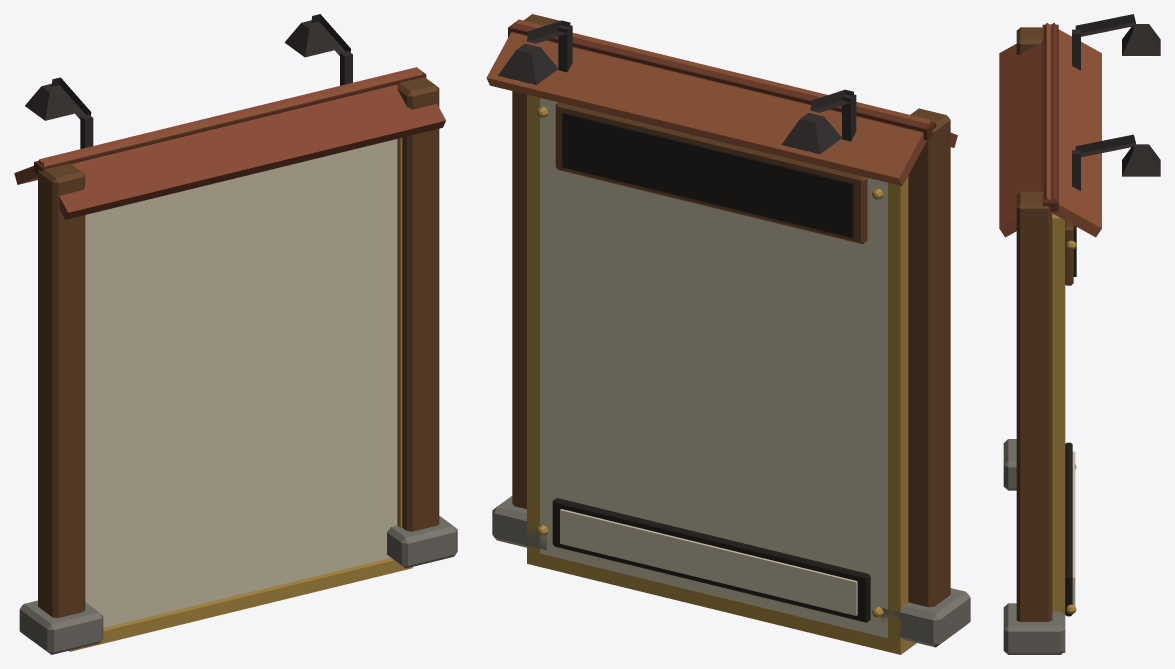
Rendered from StoreBoard.glb.
3 renders of one model, left to right at view 1: azimuth 30°, elevation 25°; view 2: azimuth 150°, elevation 25°; view 3: azimuth 270°, elevation 25°, orthographic. The views are drawn at different scales.
Parts seen in each view (by area): view 1: Board, Body; view 2: Board, Body, Header, Soon; view 3: Body, Soon.
Part boxes in pixels (x1,y1,x2,y2): Board: (85,139,397,627); Body: (14,14,457,654); Board: (540,98,887,638); Body: (486,14,970,654); Header: (562,112,853,237); Soon: (560,509,857,615); Body: (999,14,1160,654); Soon: (1072,451,1075,605).
Size of what is drawn, in the model's own units: 6.95 by 8.47 by 2.49.
